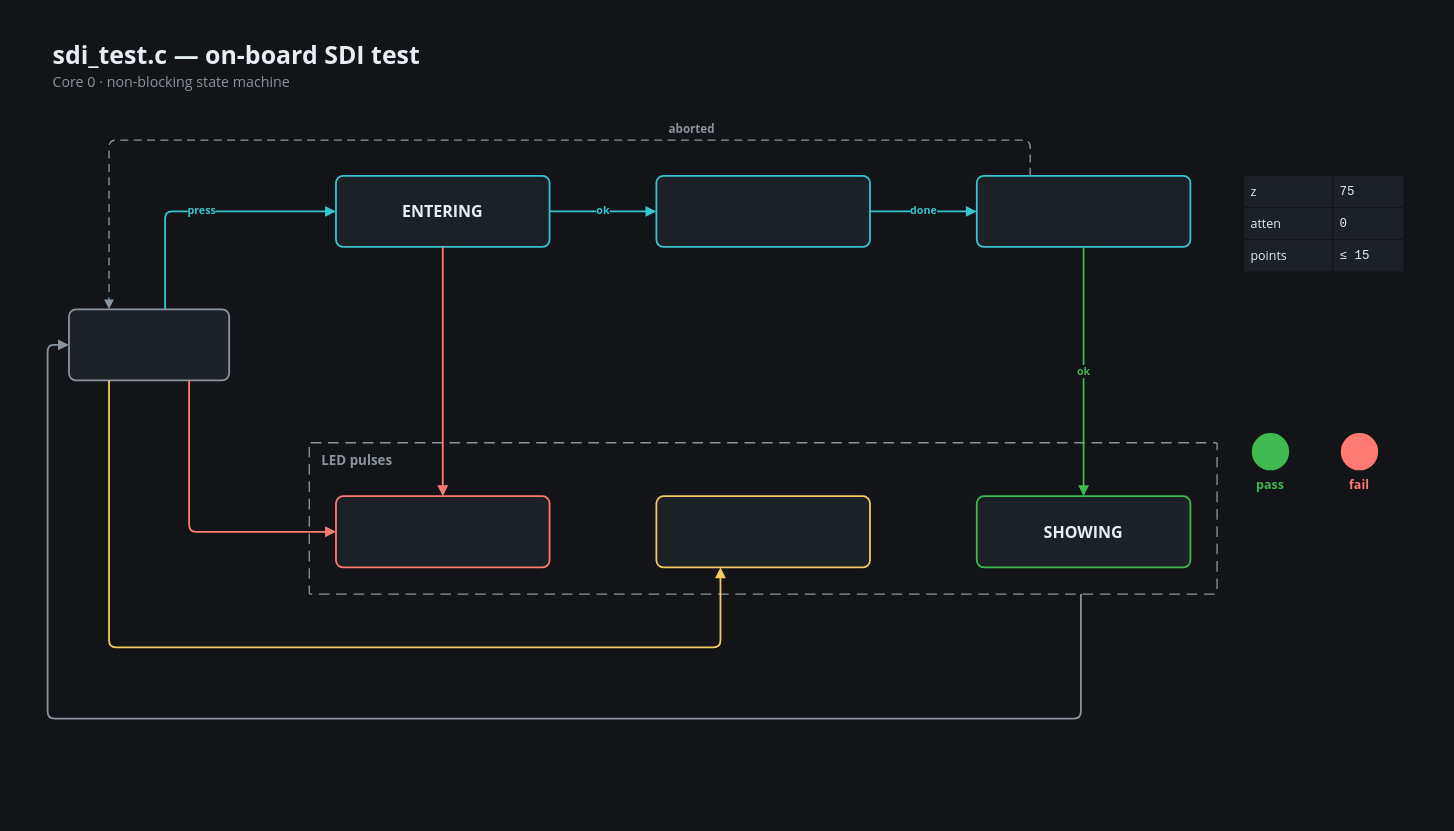
This 1454x831 diagram has some shape labels left out. Here are the shapes that lost their labels. From the top down, the centre of each, then its label:
At point 762,210: "SWEEPING".
At point 1083,210: "EXITING".
At point 149,344: "IDLE".
At point 442,531: "REFUSED".
At point 762,531: "NO_CONFIG".
